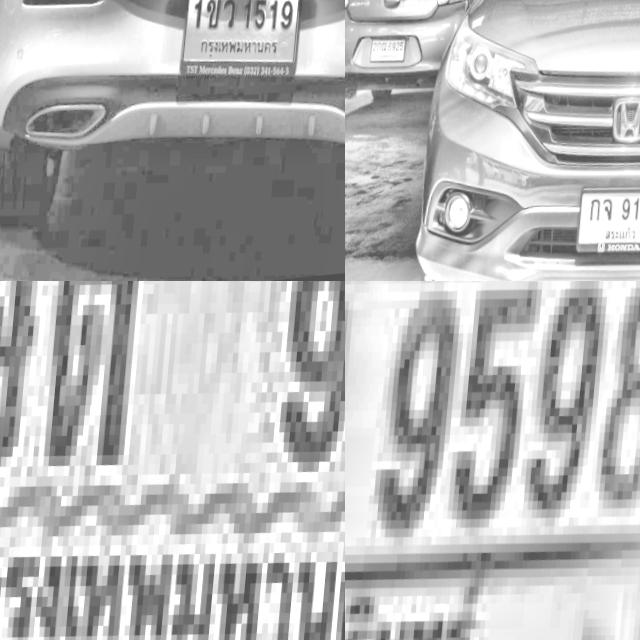license-plate: (0, 281, 345, 640), (345, 281, 640, 640), (177, 0, 305, 99), (574, 185, 640, 268)
